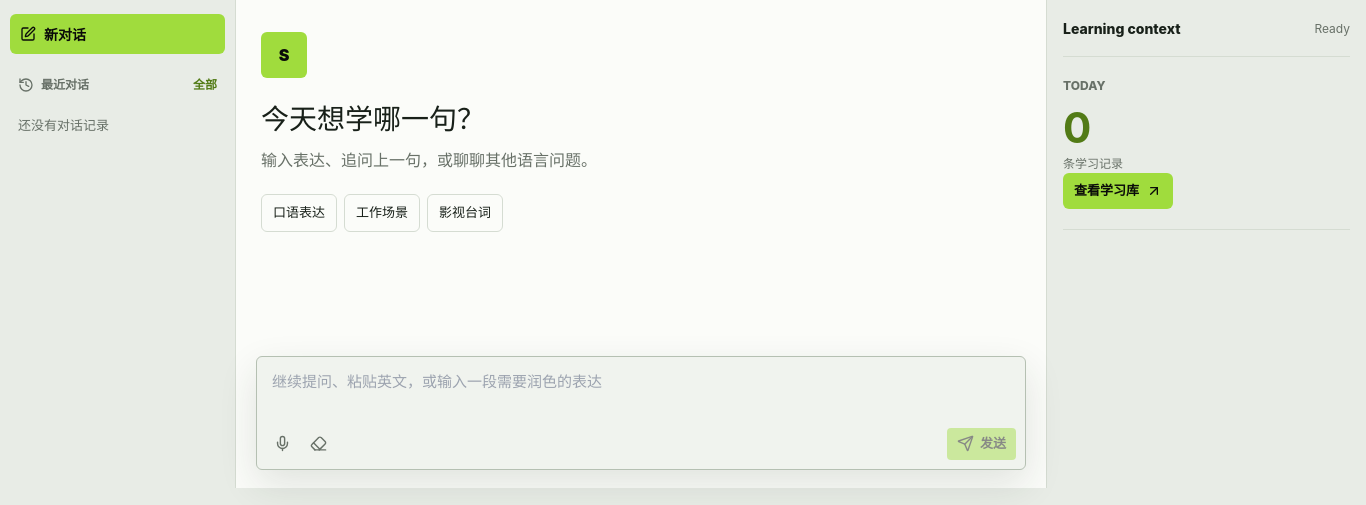
TextStudyPage › keeps follow-up questions in chat without creating a study item
Type "这里的 pretty 是什么意思？" into the text box named "对话输入" at coordinates (641, 389), box [257,357,1025,421]
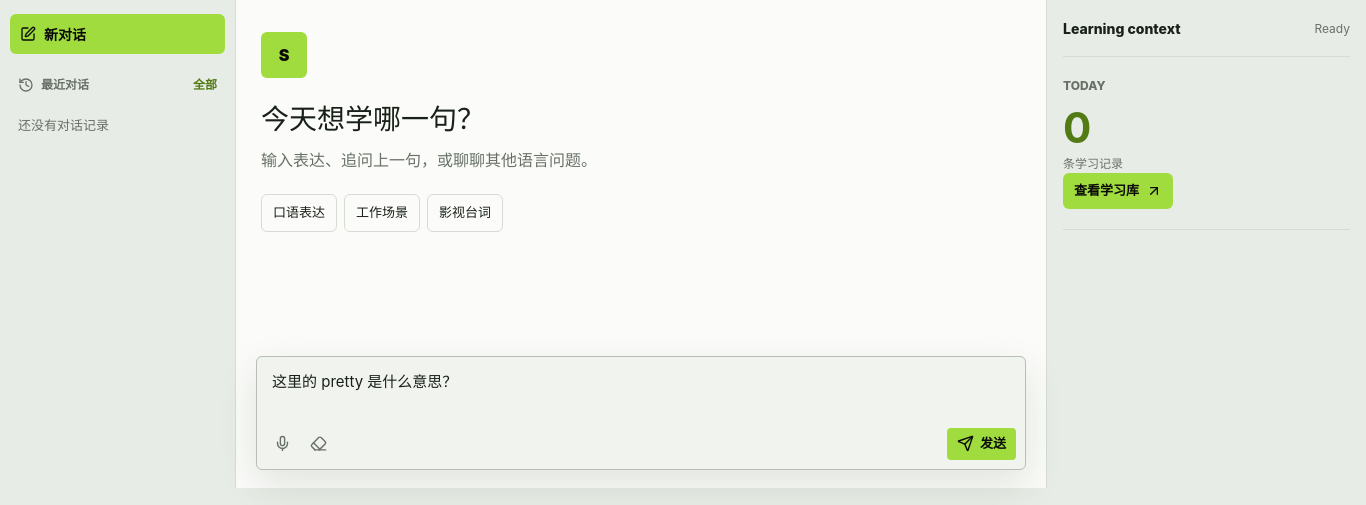
Click the button with aria-label "发送消息" at coordinates (982, 444), box [947,428,1016,460]
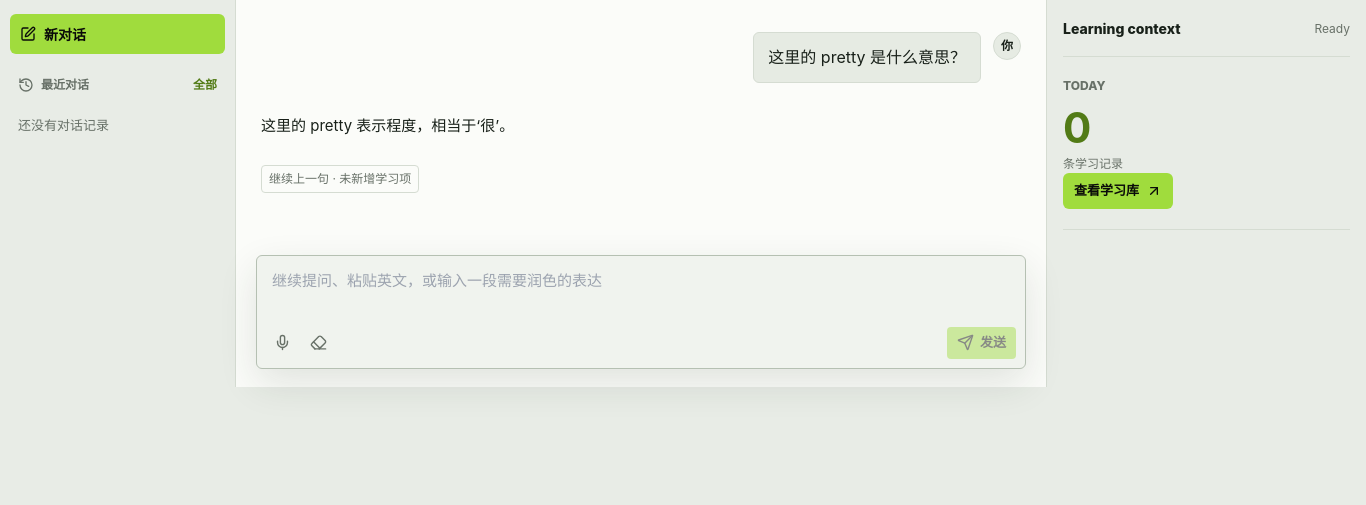
Result: the text "这里的 pretty 表示程度，相当于‘很’。" is shown at [261,116,514,135]
